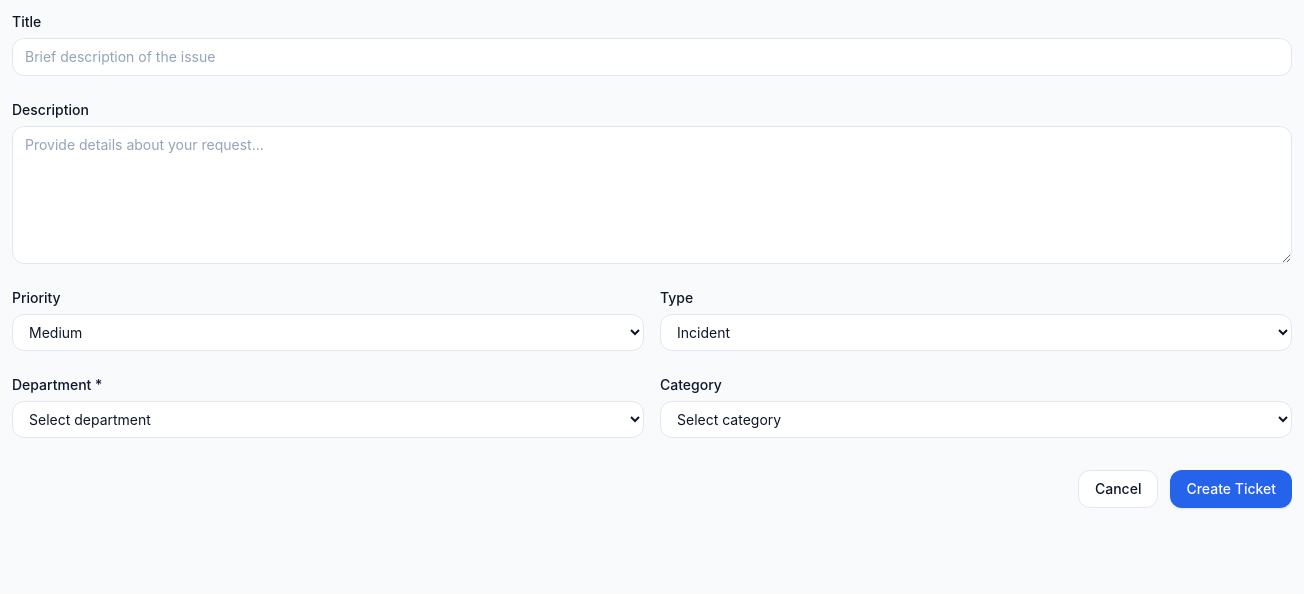
Test case: Part 5: Ticket Creation Form › shows error for missing required fields
Click the button "Create Ticket" at (1231, 489), box [1170,470,1292,508]
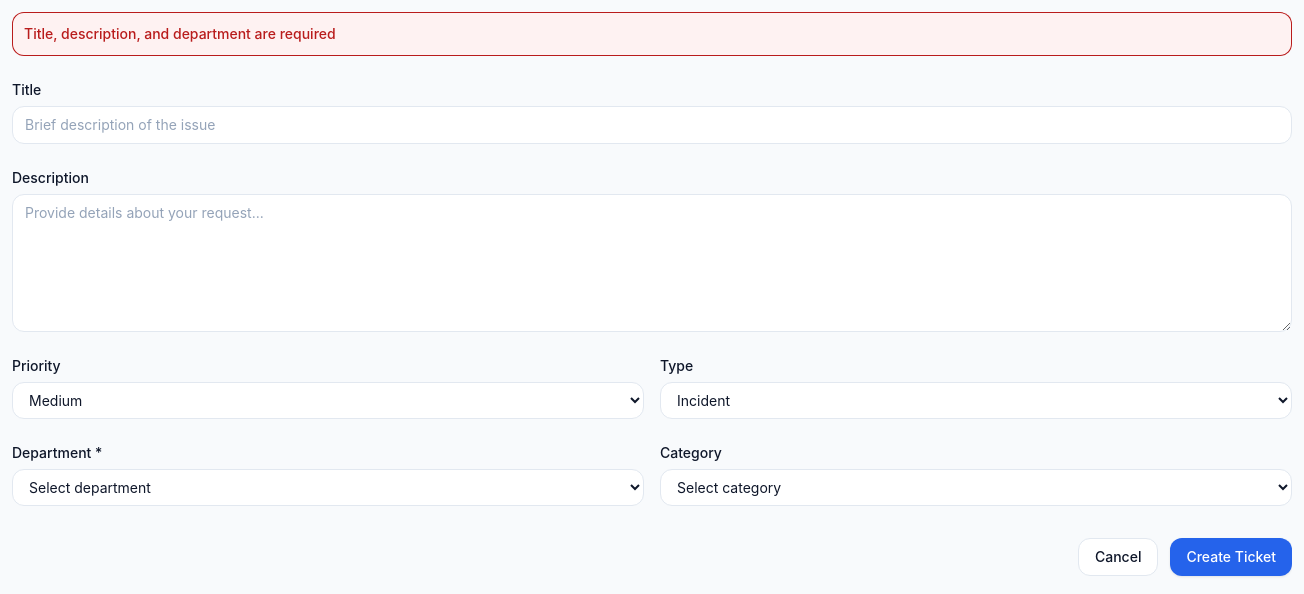
Now the text "Title, description, and department are required" is shown, box [12,12,1292,56]
